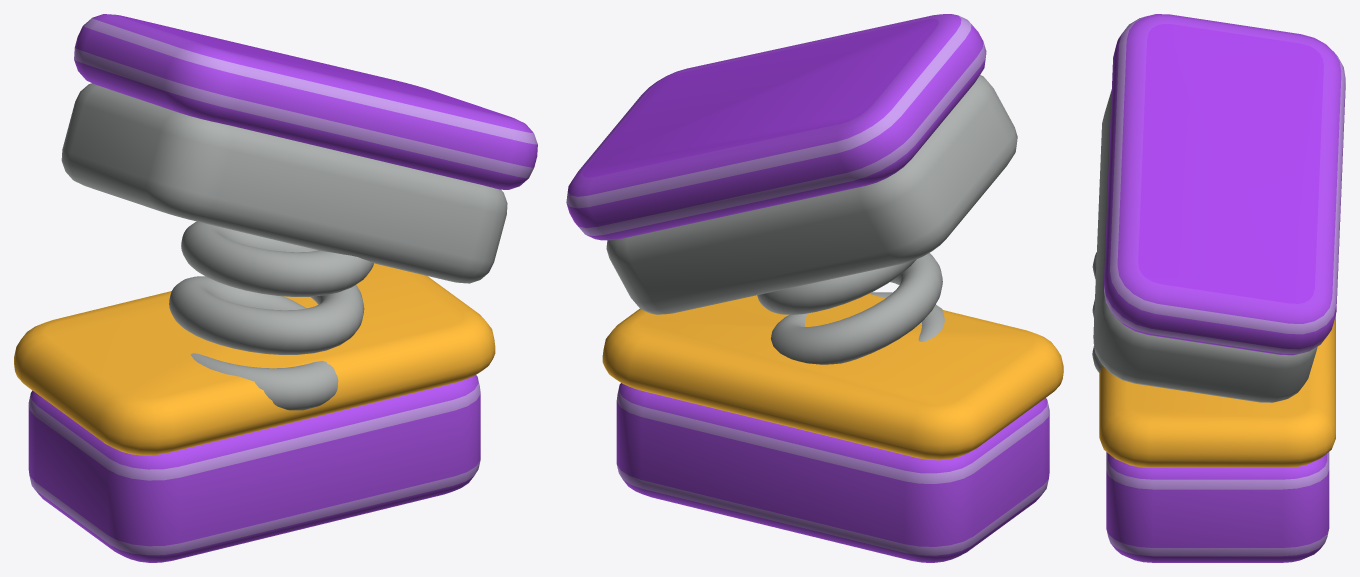
The model's file is Undo.fbx.
3 views of the same model, side by side, from view 1: azimuth 30°, elevation 25°; view 2: azimuth 150°, elevation 25°; view 3: azimuth 270°, elevation 25° (orthographic). The views are drawn at different scales.
Parts seen in each view (by area): view 1: Undo-Bost; view 2: Undo-Bost; view 3: Undo-Bost.
Boxes of the visible parts, x1,y1,x2,y2 form: Undo-Bost: [14, 14, 537, 562]; Undo-Bost: [566, 14, 1063, 562]; Undo-Bost: [1092, 14, 1345, 562].
Bounding box in the file's own units: 2.44 × 2.63 × 1.38.
1 material, 1 textured.
